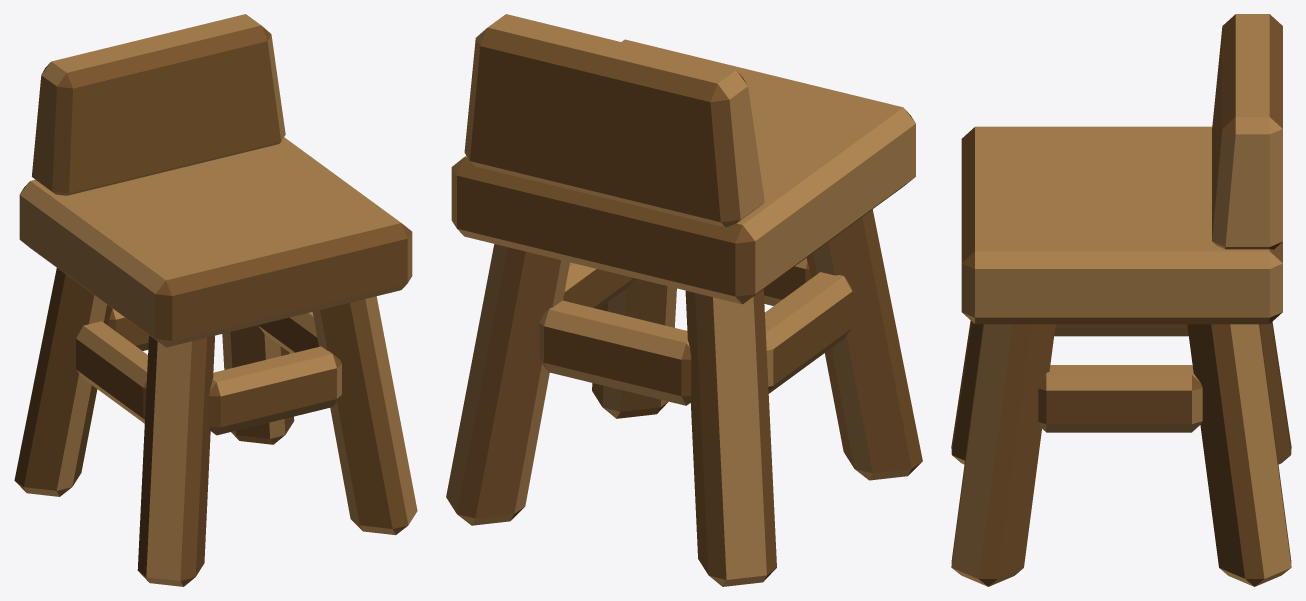
Rendered from stool.glb.
3 renders of one model, left to right at view 1: azimuth 30°, elevation 25°; view 2: azimuth 150°, elevation 25°; view 3: azimuth 270°, elevation 25°, orthographic. The views are drawn at different scales.
Visible parts, largest first — view 1: chair_b001.001; view 2: chair_b001.001; view 3: chair_b001.001.
Boxes of the visible parts, left/top/right/bottom form: chair_b001.001: left=14, top=14, right=417, bottom=586; chair_b001.001: left=446, top=14, right=922, bottom=586; chair_b001.001: left=951, top=14, right=1291, bottom=586.
Bounding box in the file's own units: 0.4226 × 0.6239 × 0.4233.
